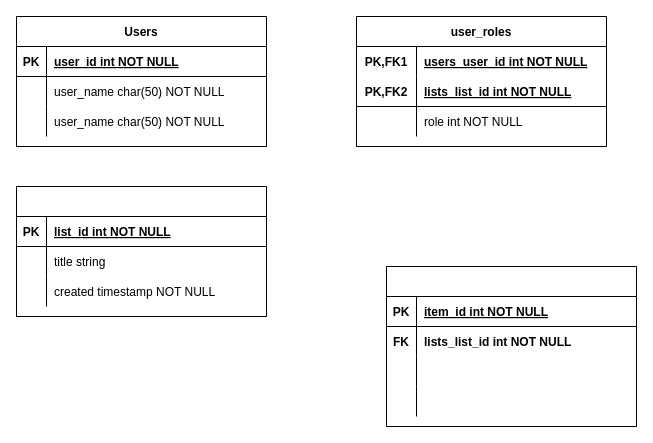
Some shapes in this 653 by 443 pixel diagram are drawn without their labels. Each missing label, with the box of its shape:
List_items: (386, 266, 636, 426)
Lists: (16, 186, 266, 316)
